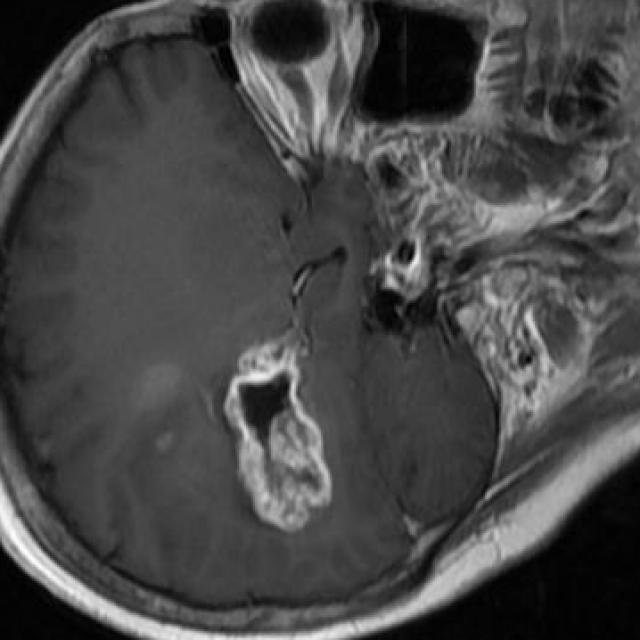glioma: (223, 330, 332, 535)
